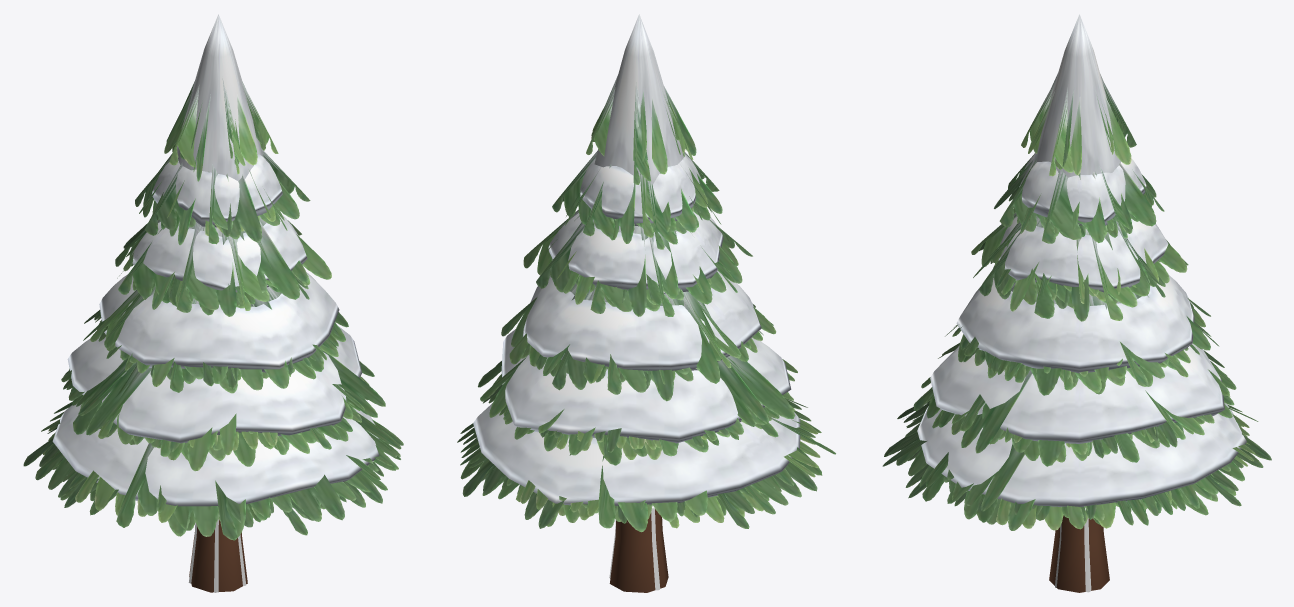
File: conifer-cedar-snow.glb
The picture shows the model from 3 angles, left to right: view 1: azimuth 30°, elevation 25°; view 2: azimuth 150°, elevation 25°; view 3: azimuth 270°, elevation 25°; orthographic projection.
Visible parts, largest first — view 1: Crown, Trunk, Stem; view 2: Crown, Trunk; view 3: Crown, Trunk, Stem.
Boxes of the visible parts, bbox=[...] form: Crown: bbox=[23, 14, 403, 540]; Trunk: bbox=[189, 520, 247, 592]; Stem: bbox=[188, 519, 246, 592]; Crown: bbox=[457, 14, 835, 532]; Trunk: bbox=[609, 509, 668, 592]; Crown: bbox=[882, 14, 1271, 530]; Trunk: bbox=[1049, 515, 1109, 592]; Stem: bbox=[1055, 518, 1091, 592].
Size of the model in its own units: 2.56 by 4.11 by 2.65.
Materials: 4 (1 with a texture image).
